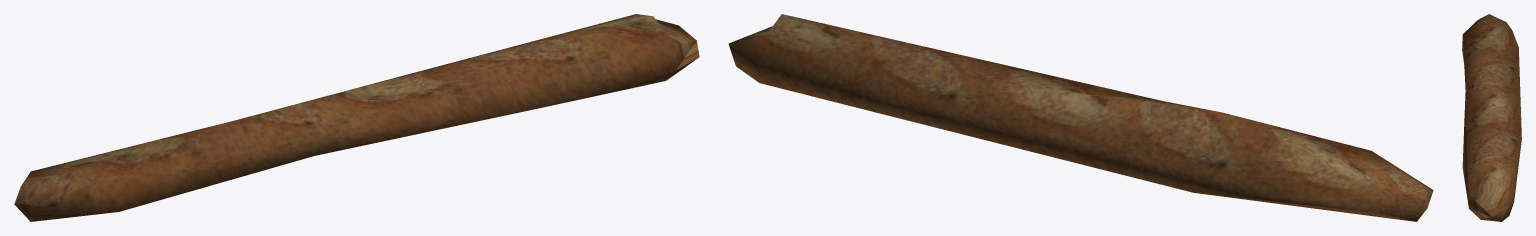
The model's file is p_glo_bread_bgtte_lod3.glb.
3 renders of one model, left to right at view 1: azimuth 30°, elevation 25°; view 2: azimuth 150°, elevation 25°; view 3: azimuth 270°, elevation 25°, orthographic. The views are drawn at different scales.
Parts seen in each view (by area): view 1: surf0; view 2: surf0; view 3: surf0.
Part boxes in pixels (<box>): surf0: <box>14,14,699,221</box>; surf0: <box>728,14,1433,221</box>; surf0: <box>1462,14,1521,221</box>.
Size of the model in its own units: 30.11 by 2.68 by 3.96.
